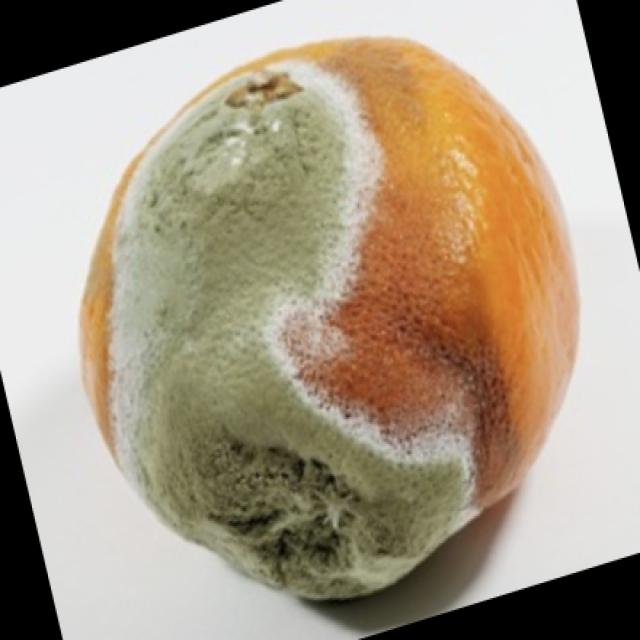sangat_busuk: (73, 35, 577, 603)
